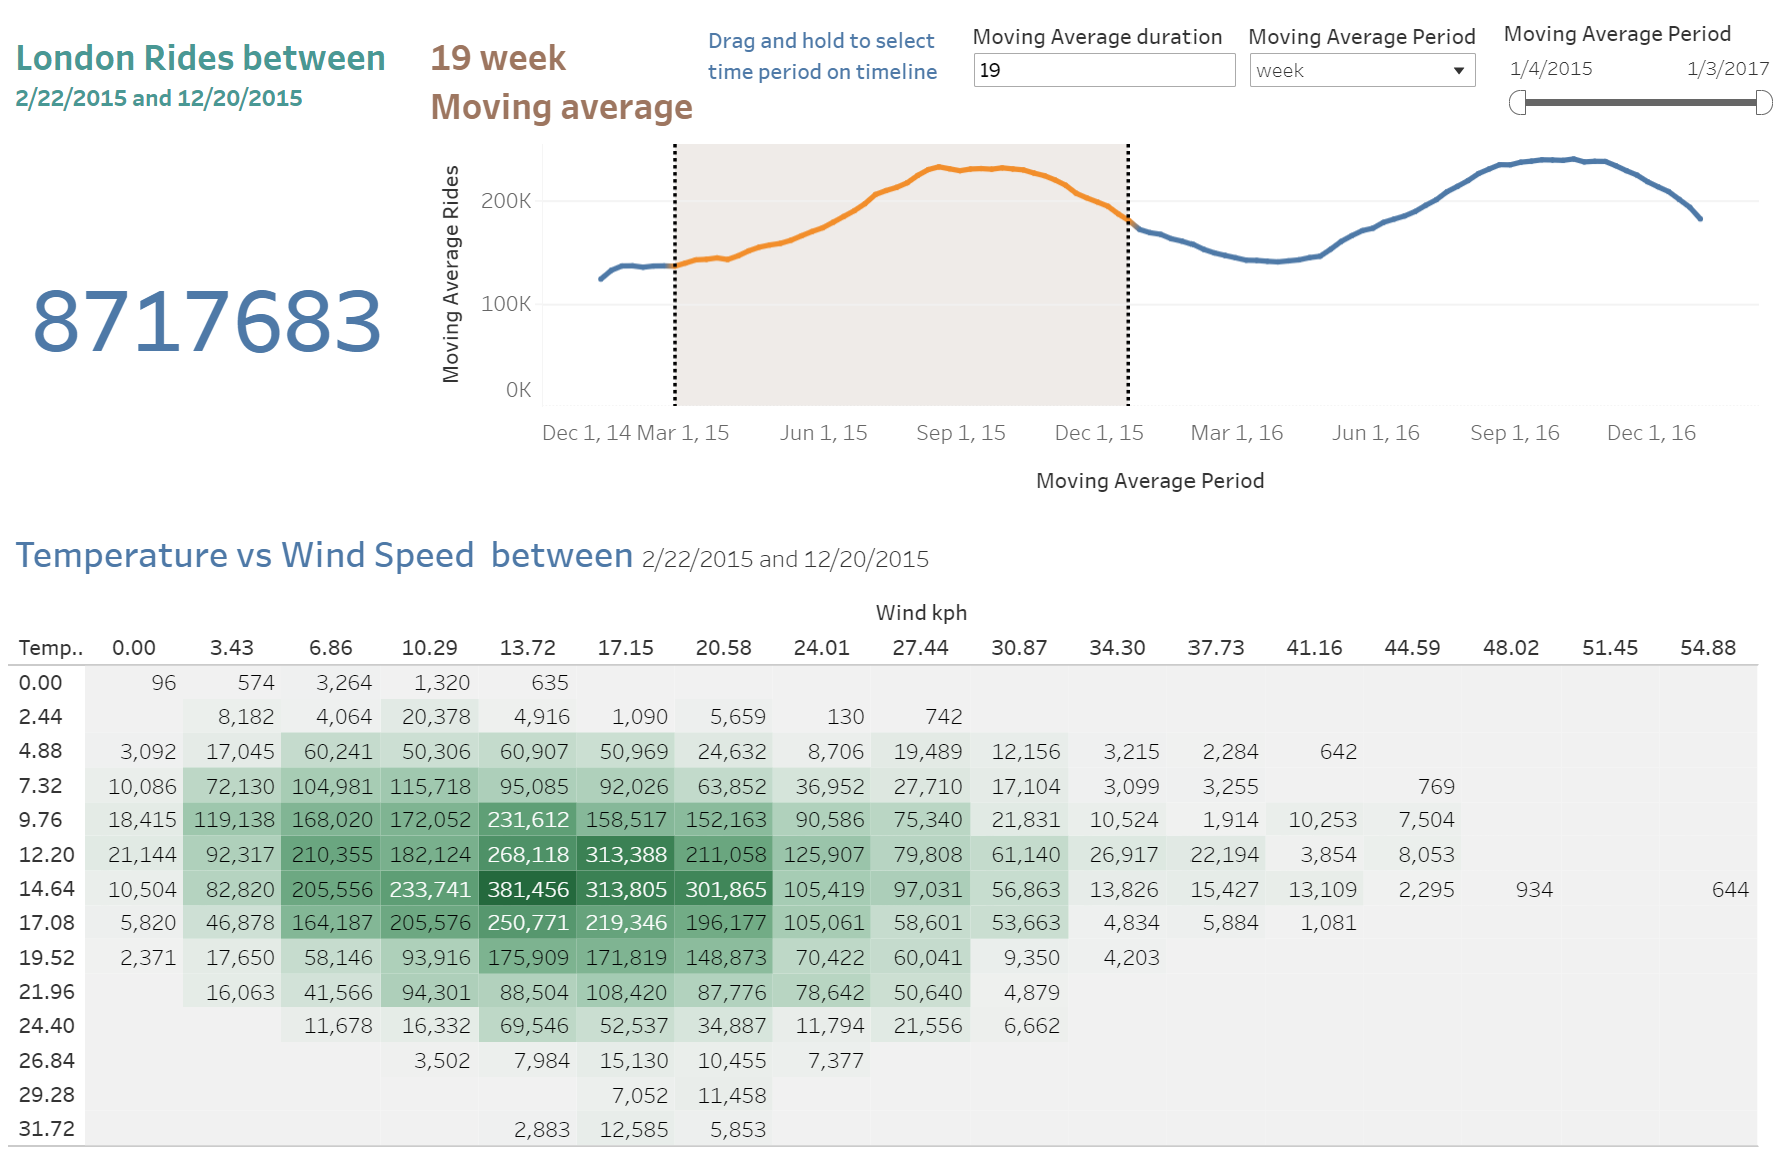

What the dashboard file says about the page in this screenshot:
{"tool":"tableau","page":{"name":"Dashboard 1","canvas":[1024,668],"ordinal":0},"visuals":[{"type":"worksheet","title":"In range of Rides","mark":"Automatic","box":[8,8,237,285]},{"type":"worksheet","title":"Moving Average","mark":"Automatic","rows":["Calculation1"],"cols":["Calculation_586030938157133824"],"box":[245,8,771,285]},{"type":"text","box":[412,10,138,44]},{"type":"filter","title":"Moving Average","param":"[federated.1kyzdlt0jmo9l61e276mj0f1zgcq].[none:Calculation_586030938157133824:qk","box":[866,10,156,61]},{"type":"parameter","param":"[Parameters].[Parameter 2]","box":[563,12,151,50]},{"type":"parameter","param":"[Parameters].[Parameter 1]","box":[720,12,131,44]},{"type":"worksheet","title":"Temperature vs Wind Speed","mark":"Square","rows":["temp real C (bin)"],"cols":["Wind Speed Kph (bin)"],"box":[8,293,1008,367]}]}

Visuals, with their boxes in screenshot pixels (x1, y1, x2, y2), scaled from the page's 1024x668 canvas onto the 1779x1151 screenshot:
"In range of Rides" worksheet: l=14, t=14, r=426, b=505
"Moving Average" worksheet: l=426, t=14, r=1765, b=505
text: l=716, t=17, r=956, b=93
"Moving Average" filter: l=1505, t=17, r=1776, b=122
parameter: l=978, t=21, r=1240, b=107
parameter: l=1251, t=21, r=1478, b=96
"Temperature vs Wind Speed" worksheet (Square marks): l=14, t=505, r=1765, b=1137
